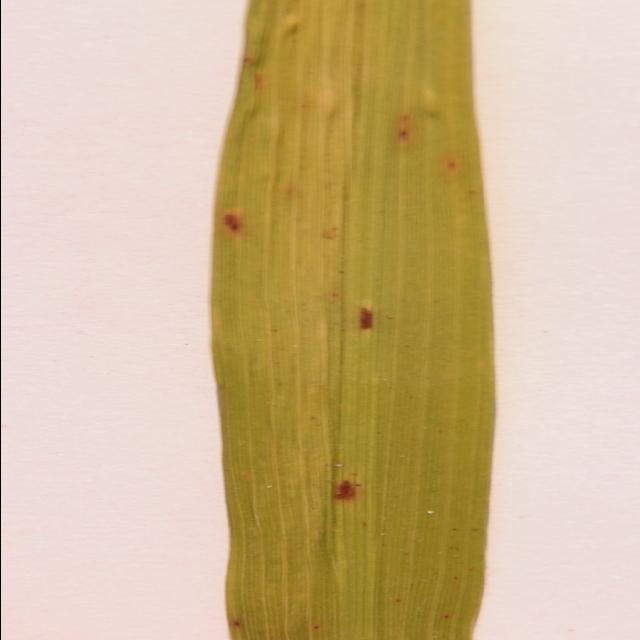Unhealthy: (329, 480, 361, 503), (221, 211, 245, 239), (397, 116, 411, 148), (358, 307, 375, 330), (253, 72, 268, 93), (445, 157, 459, 174), (230, 621, 243, 627), (391, 598, 403, 603), (312, 626, 320, 629), (441, 615, 448, 618)
